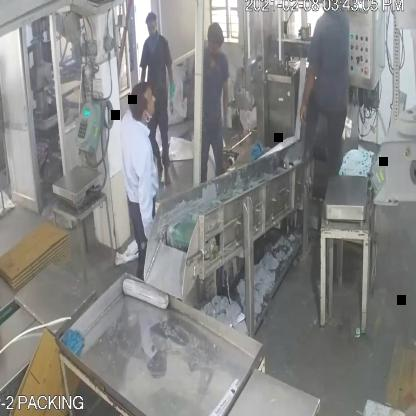glove: (166, 73, 180, 121)
no_glove: (297, 58, 318, 126), (219, 77, 234, 131)
